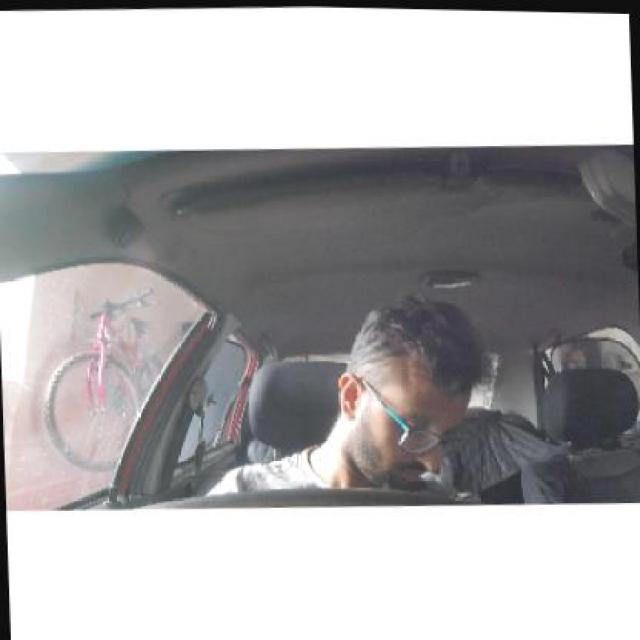drowsy: (332, 305, 473, 492)
